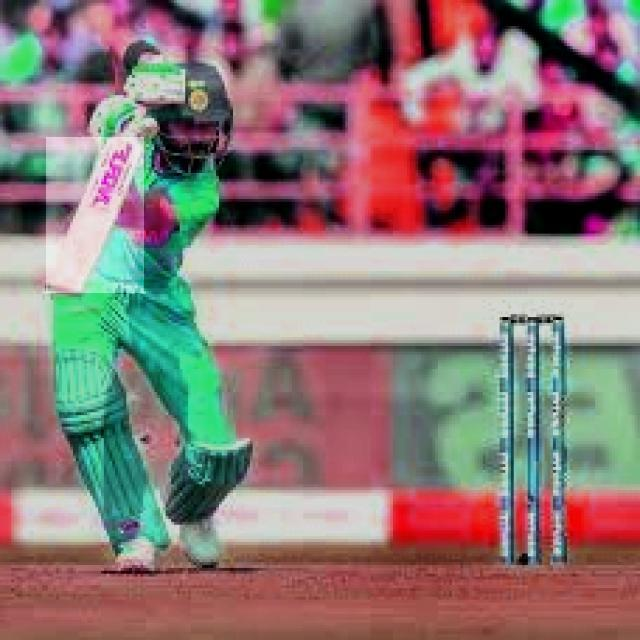bat: (45, 134, 142, 295)
toe: (35, 278, 82, 294)
